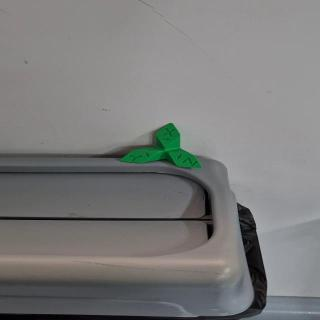eje: (119, 122, 203, 170)
